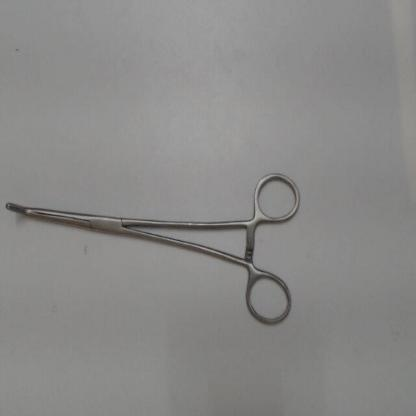Lahey Forceps: (2, 161, 305, 334)
